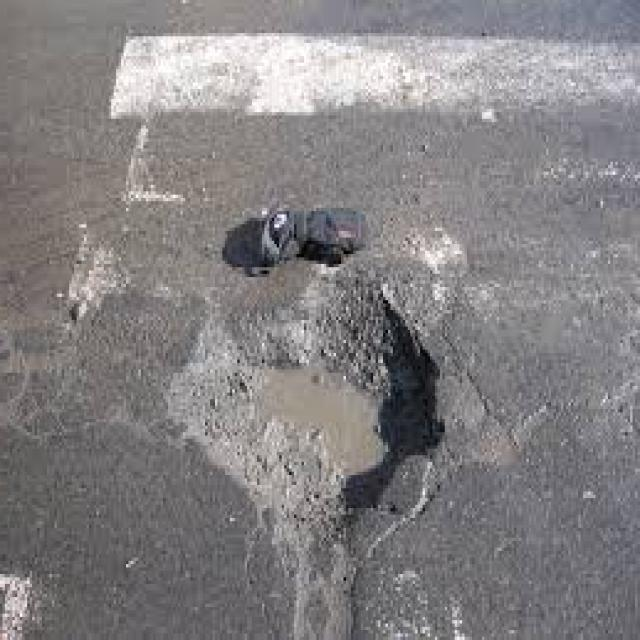Pothole: (168, 266, 444, 639)
